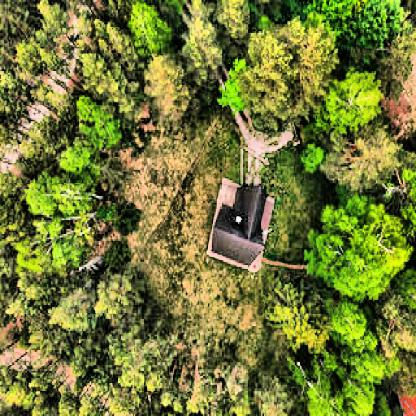tree-top: (304, 196, 410, 302), (246, 15, 318, 122), (322, 0, 405, 68), (327, 132, 403, 199), (272, 286, 332, 355), (322, 67, 386, 131), (92, 264, 147, 337), (17, 221, 84, 280), (144, 57, 200, 122), (182, 12, 226, 80), (124, 0, 178, 54), (377, 298, 416, 366), (22, 173, 80, 218), (327, 302, 373, 349), (73, 93, 120, 136), (51, 290, 92, 334), (343, 372, 379, 416), (73, 46, 109, 89), (353, 350, 392, 384), (308, 375, 340, 416), (58, 140, 95, 173), (219, 74, 247, 115), (298, 140, 326, 174)
